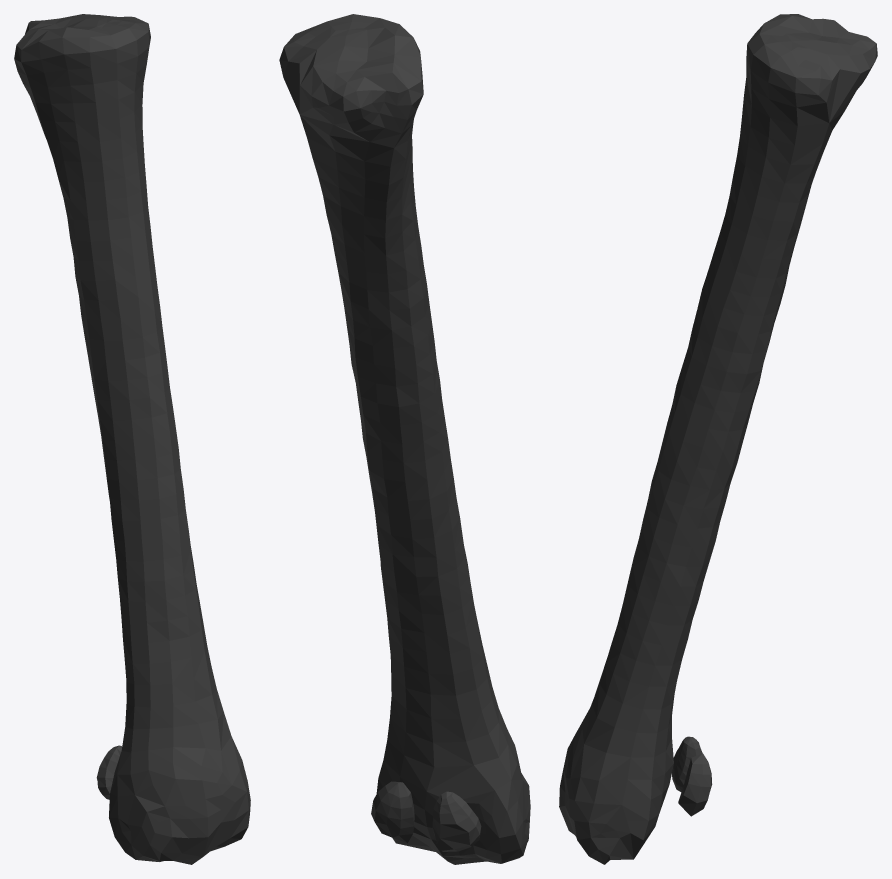
The model's file is RHL_MT_cannon.glb.
3 renders of one model, left to right at view 1: azimuth 30°, elevation 25°; view 2: azimuth 150°, elevation 25°; view 3: azimuth 270°, elevation 25°, orthographic. The views are drawn at different scales.
Visible parts, largest first — view 1: RHL_MT_cannon; view 2: RHL_MT_cannon; view 3: RHL_MT_cannon.
Part boxes in pixels (left/top/right/bottom): RHL_MT_cannon: left=14, top=14, right=250, bottom=864; RHL_MT_cannon: left=279, top=14, right=530, bottom=864; RHL_MT_cannon: left=559, top=14, right=877, bottom=864.
Bounding box in the file's own units: 12.3 × 73.81 × 25.99.
1 material, 1 textured.
